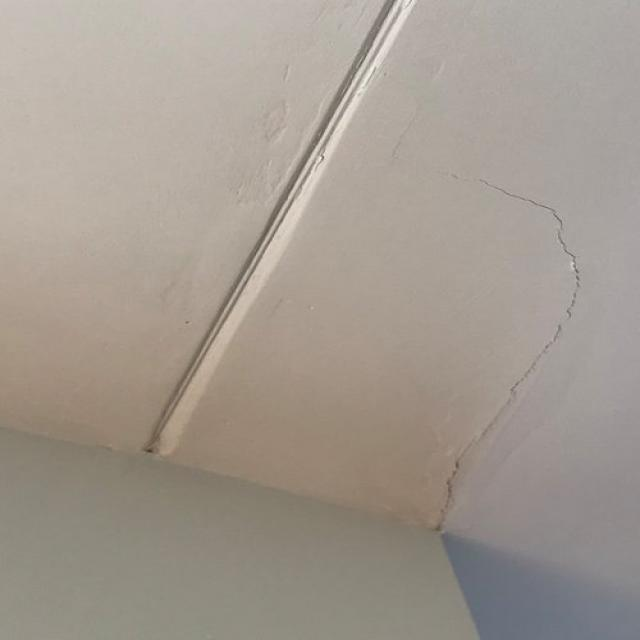Crack: (436, 324, 561, 530), (433, 168, 576, 261), (545, 265, 584, 322)
